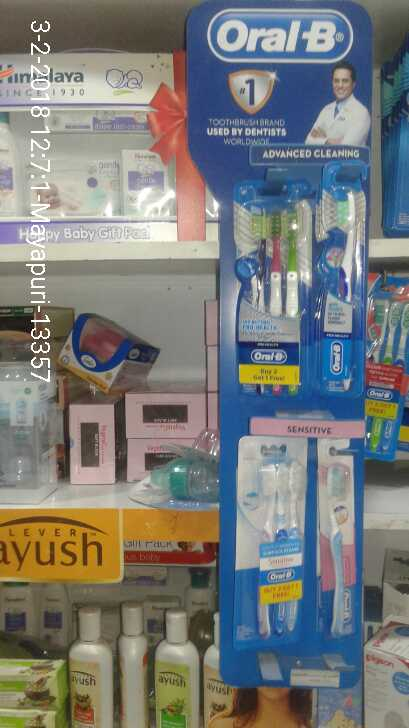oralb: (231, 195, 305, 387), (254, 451, 315, 638), (313, 180, 357, 386), (323, 462, 354, 640)
